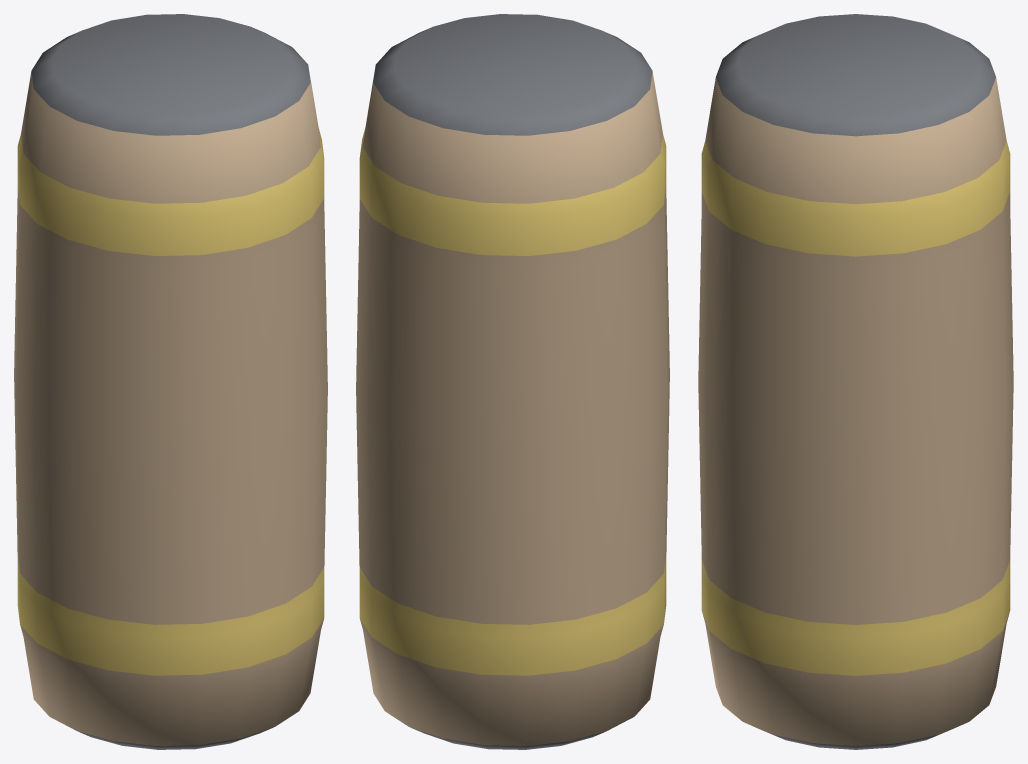
File: bag.glb
3 views of the same model, side by side, from view 1: azimuth 30°, elevation 25°; view 2: azimuth 150°, elevation 25°; view 3: azimuth 270°, elevation 25° (orthographic).
Visible parts, largest first — view 1: bag; view 2: bag; view 3: bag.
Part boxes in pixels (x1,y1,x2,y2): bag: (14,14,327,749); bag: (356,14,669,749); bag: (698,14,1013,749).
Size of the model in its own units: 0.45 by 1 by 0.45.
